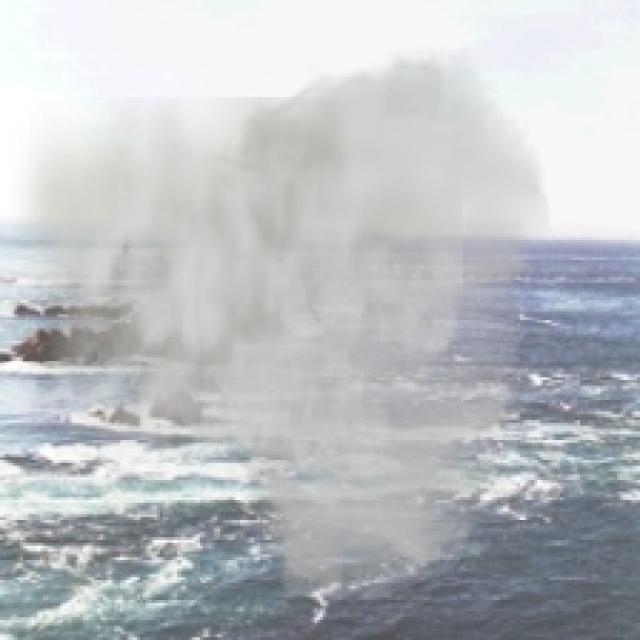smoke: (9, 43, 554, 608)
